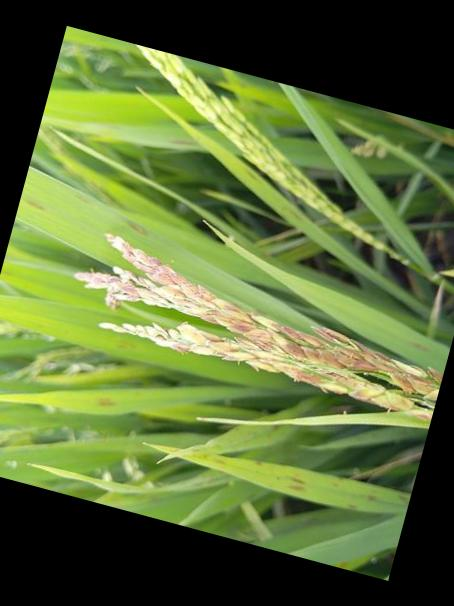Panicle Blight: (74, 233, 443, 410)
